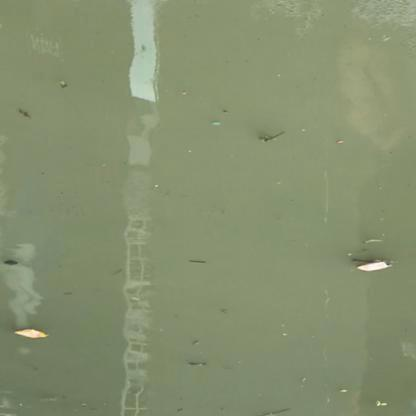Trash: (353, 254, 396, 276), (14, 324, 49, 344)
